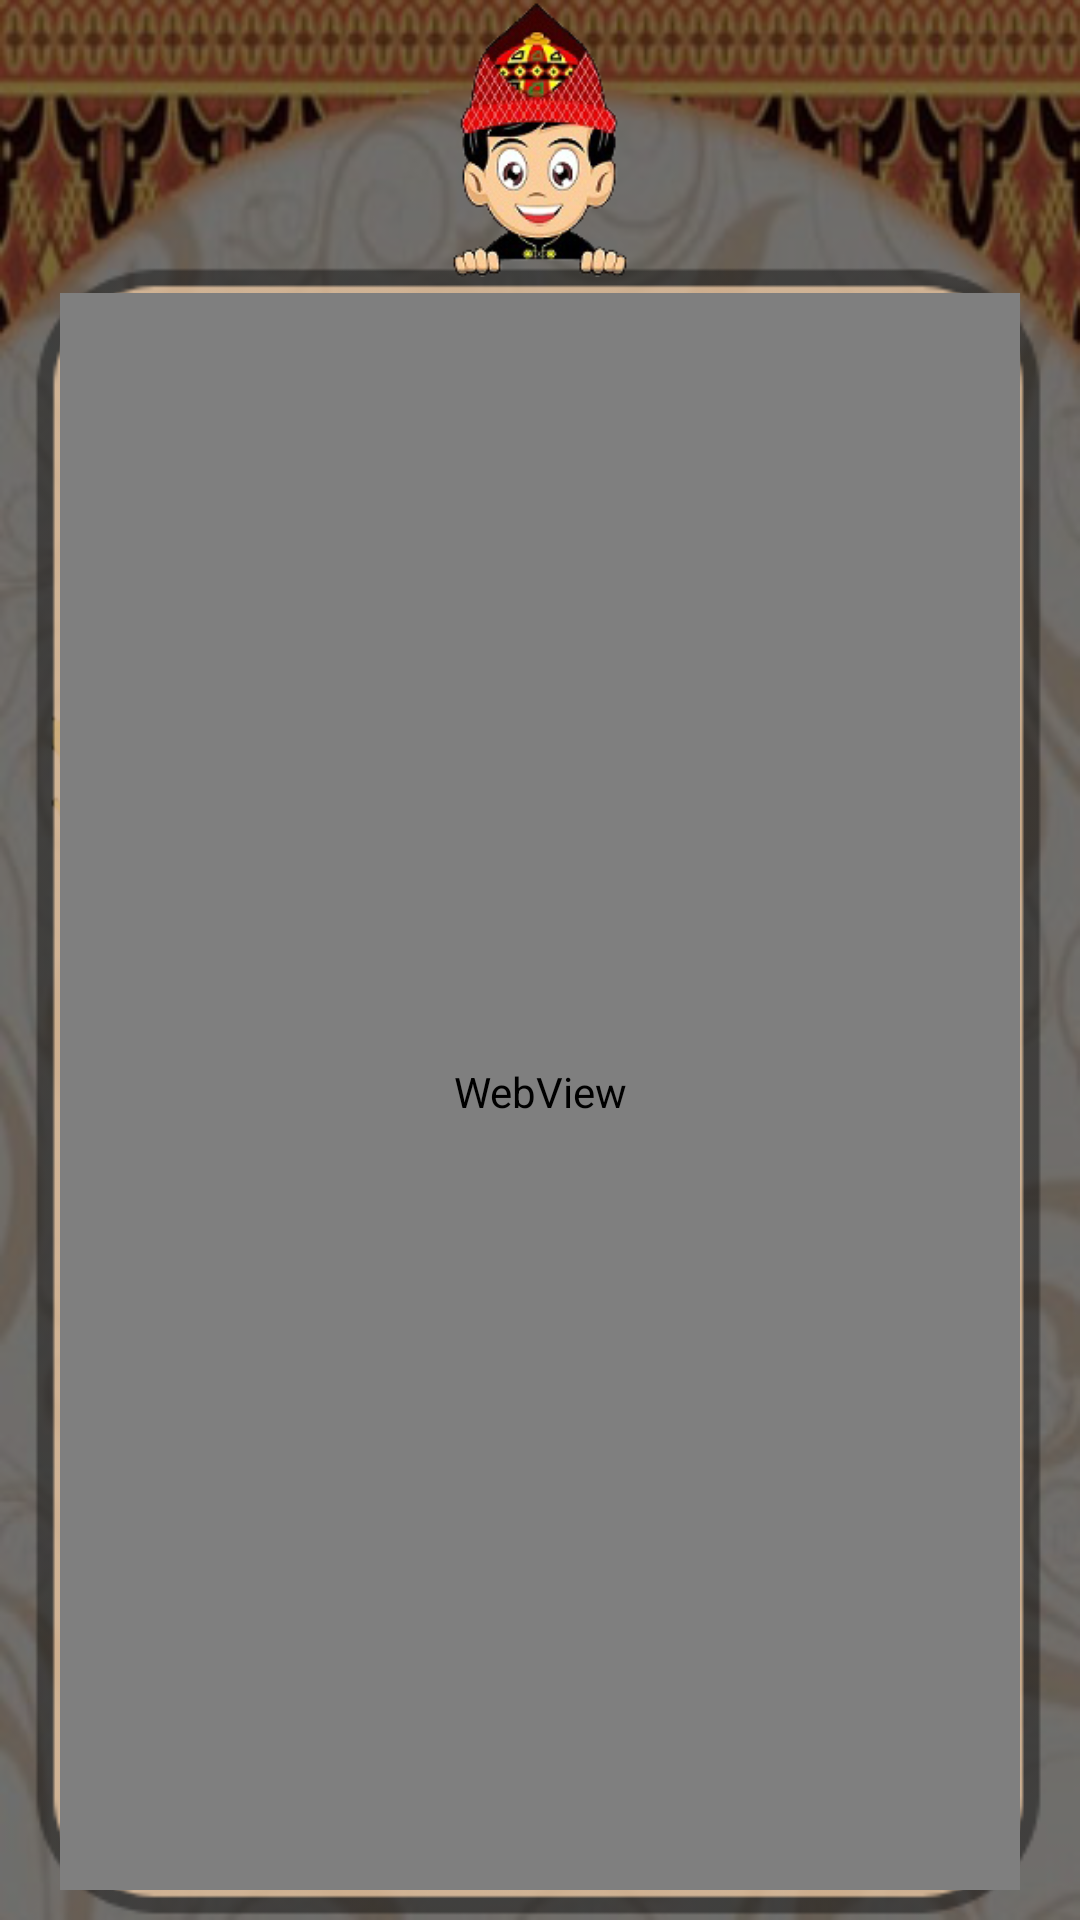

Screen size 1080w x 1920h. Icon name, then its center in pixels as (x=x, y=y):
orang: (x=540, y=138)
